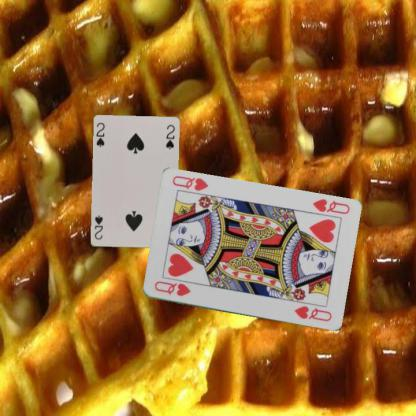2s: (94, 120, 106, 149)
Qh: (151, 278, 192, 298), (310, 197, 350, 216)
